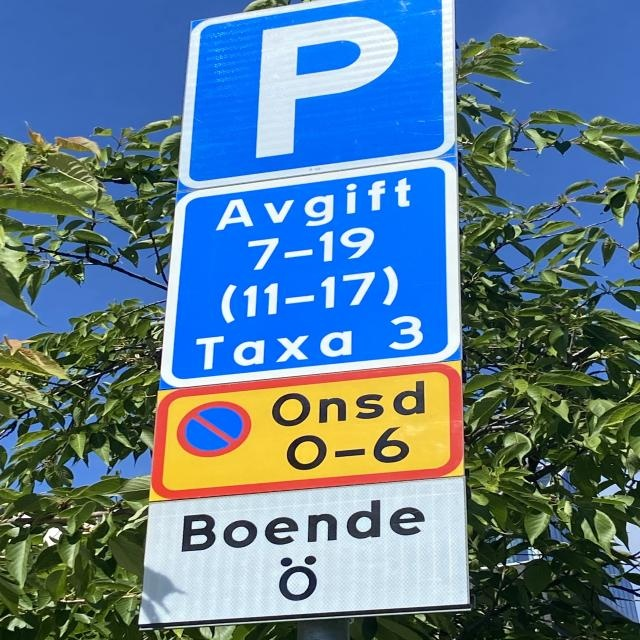P-skylt: (194, 5, 458, 172)
